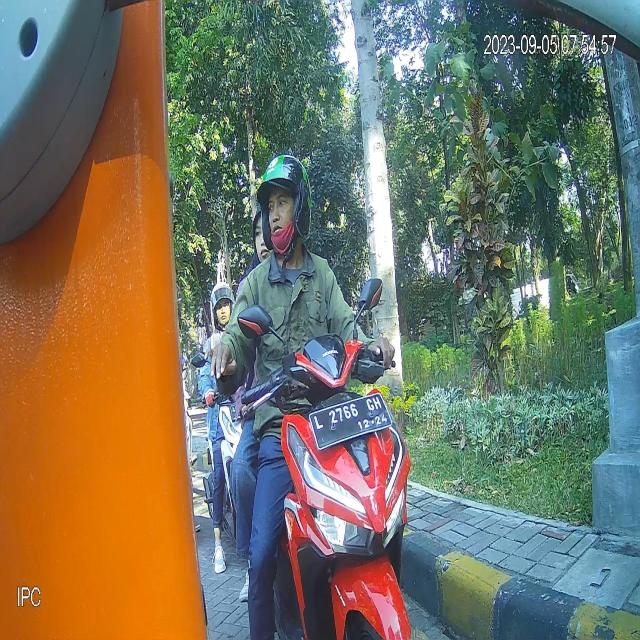license-plate: (307, 390, 395, 452)
